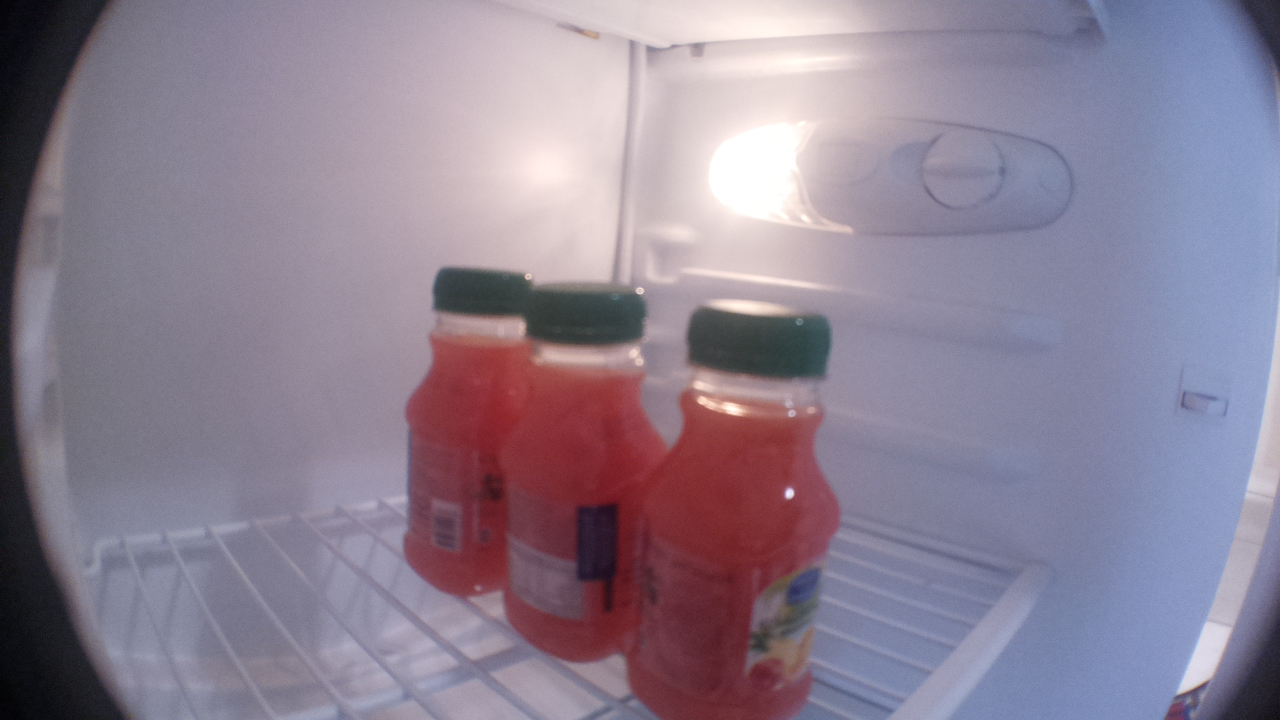juice: (624, 300, 845, 720), (500, 277, 639, 667), (389, 261, 509, 601)
